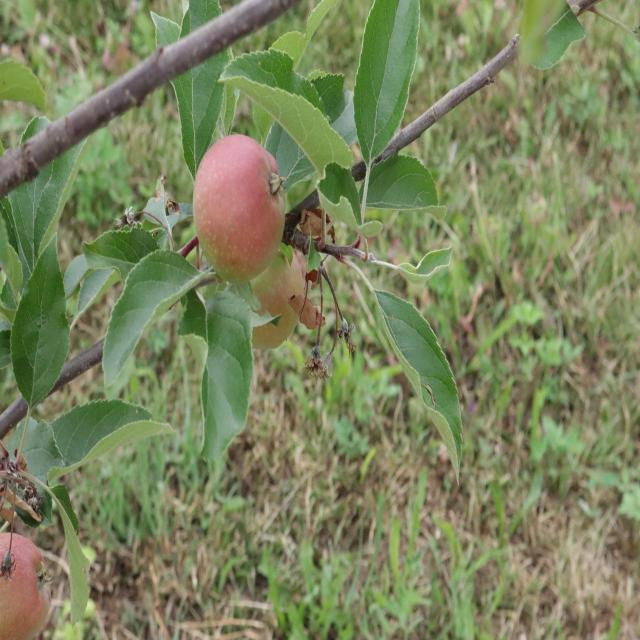-FireBlight-: (284, 207, 352, 363)
